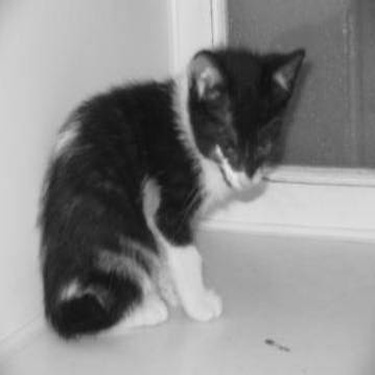cat: (24, 29, 304, 340)
